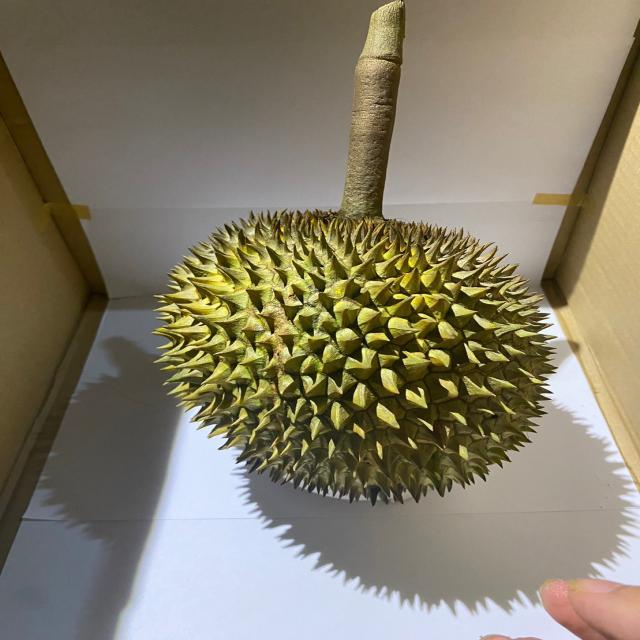immature: (149, 205, 565, 509)
